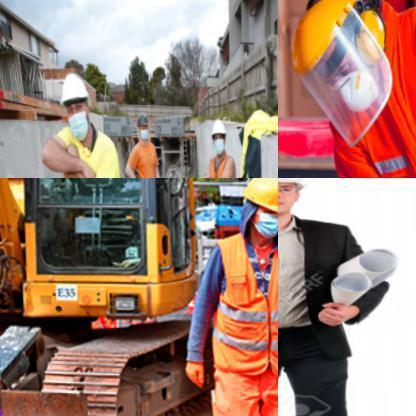vest: (308, 0, 415, 177), (214, 236, 277, 383)
